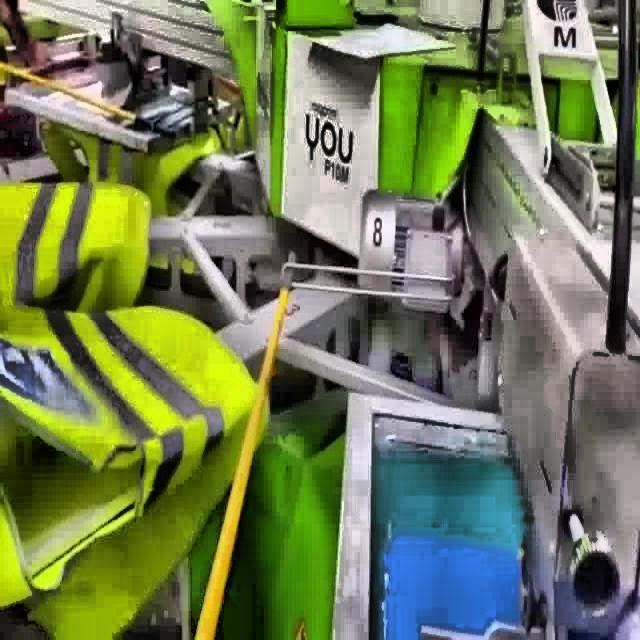safety_jacket: (0, 302, 270, 640), (1, 181, 154, 304)
